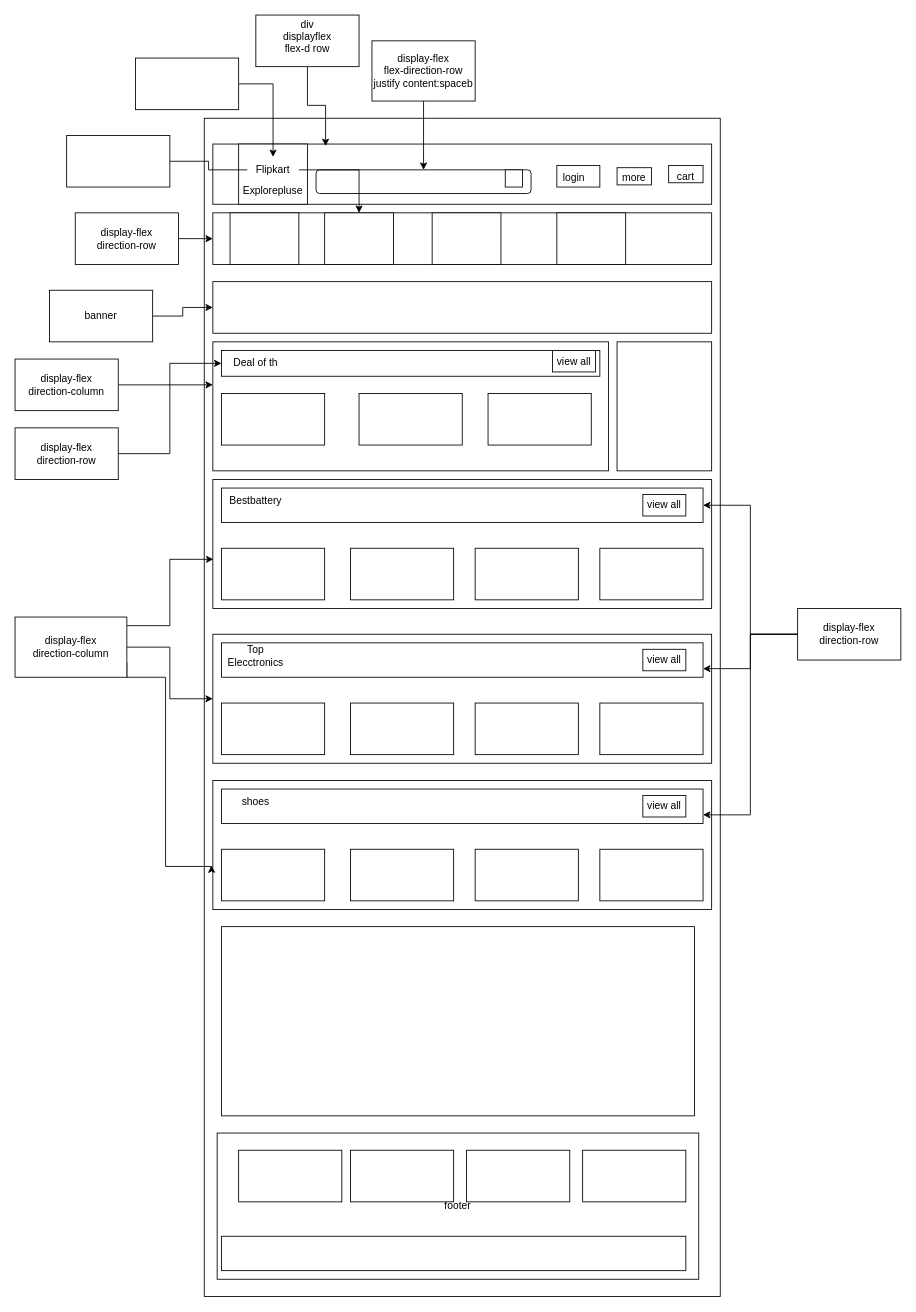
Some shapes in this 916 by 1312 pixel diagram are drawn without their labels. Here are the shapes that lost their labels. From the top down, the centre of each, then its label:
(x=187, y=83): display-flex flex-direction-column align-item-center
(x=118, y=161): display-flex der-column
(x=457, y=1021): Para Section
